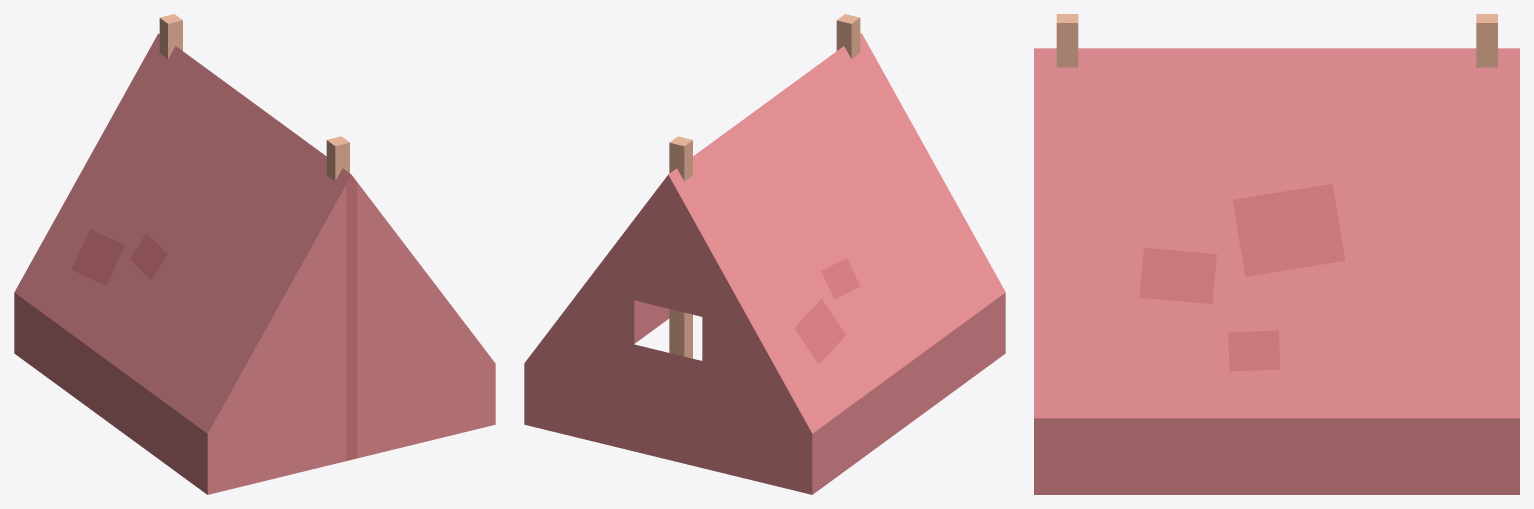
File: tent_smallClosed.gltf
3 renders of one model, left to right at view 1: azimuth 30°, elevation 25°; view 2: azimuth 150°, elevation 25°; view 3: azimuth 270°, elevation 25°, orthographic. The views are drawn at different scales.
Parts seen in each view (by area): view 1: tent_smallClosed; view 2: tent_smallClosed; view 3: tent_smallClosed.
Boxes of the visible parts, <box> form: tent_smallClosed: <box>14,14,495,494</box>; tent_smallClosed: <box>524,14,1005,494</box>; tent_smallClosed: <box>1034,14,1519,494</box>.
Bounding box in the file's own units: 0.5476 × 0.5611 × 0.6364.
